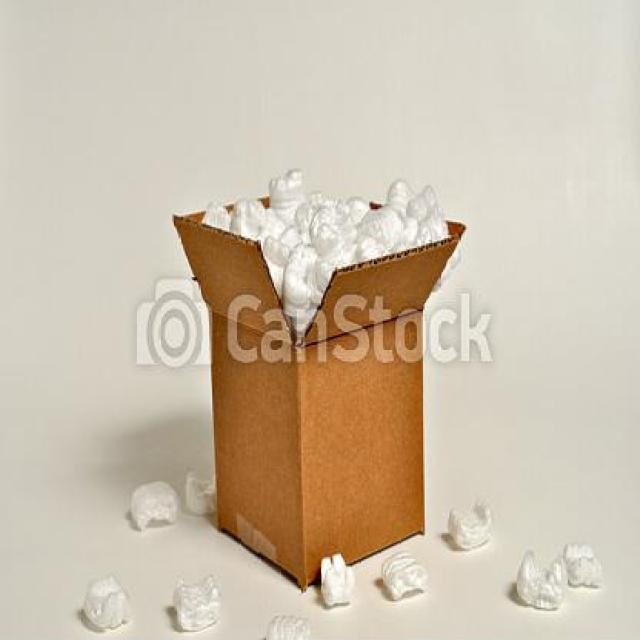box: (171, 155, 497, 607)
